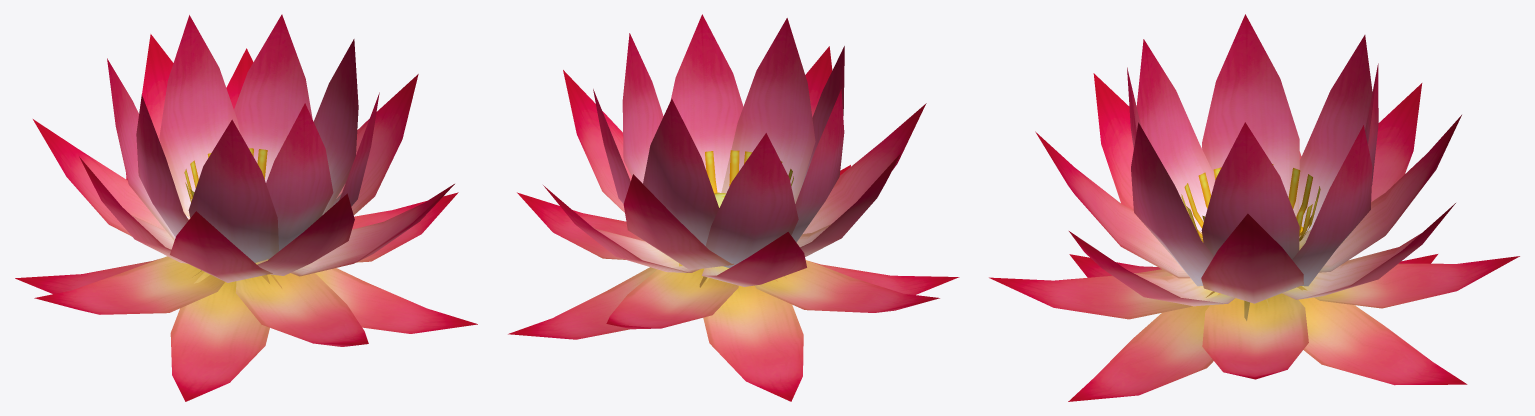
File: Lotus.fbx
3 views of the same model, side by side, from view 1: azimuth 30°, elevation 25°; view 2: azimuth 150°, elevation 25°; view 3: azimuth 270°, elevation 25° (orthographic). The views are drawn at different scales.
Parts seen in each view (by area): view 1: lotus; view 2: lotus; view 3: lotus.
Boxes of the visible parts, x1,y1,x2,y2 form: lotus: (15,14,477,401); lotus: (508,14,959,401); lotus: (989,14,1519,401).
Size of the model in its own units: 7.08 by 4.11 by 7.07.
Materials: 1 (1 with a texture image).
